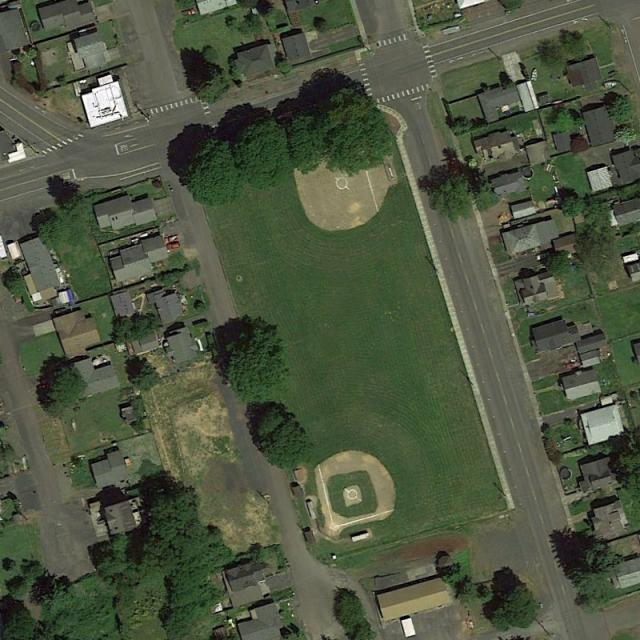vehicle: (537, 252, 552, 261), (166, 241, 180, 250), (182, 9, 197, 17)
